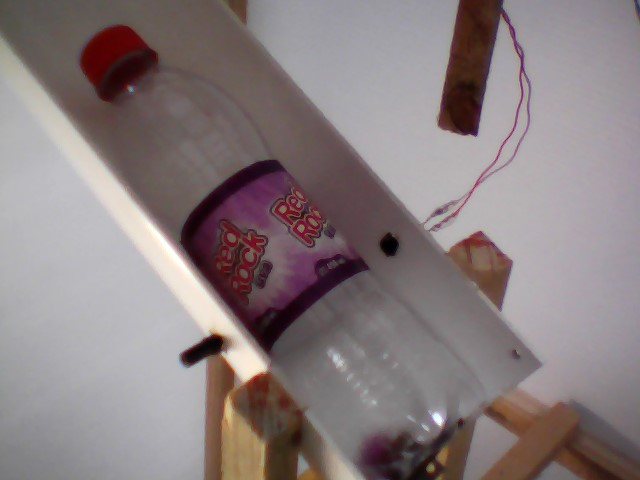plastico: (66, 17, 498, 480)
